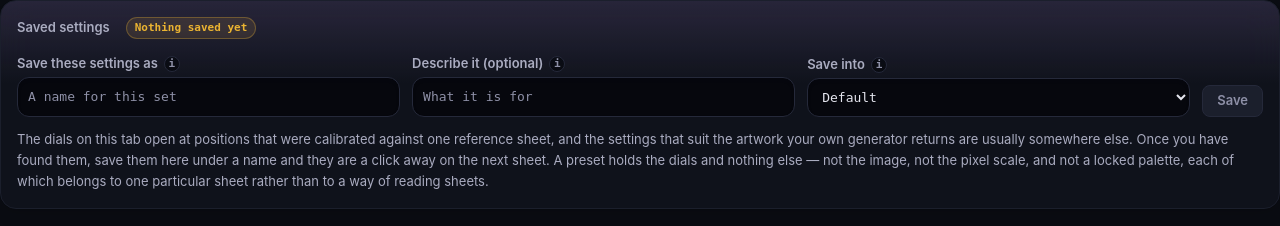
QuantisePresetControls › refuses to save until the box holds a name
The width and height of the screenshot is (1280, 226).
Expected: the button "Save" is disabled, [1202,85,1263,117]
Type "Flat sheets" into the field labelled "Save these settings as". click: (209, 97)
box: [17,77,400,117]
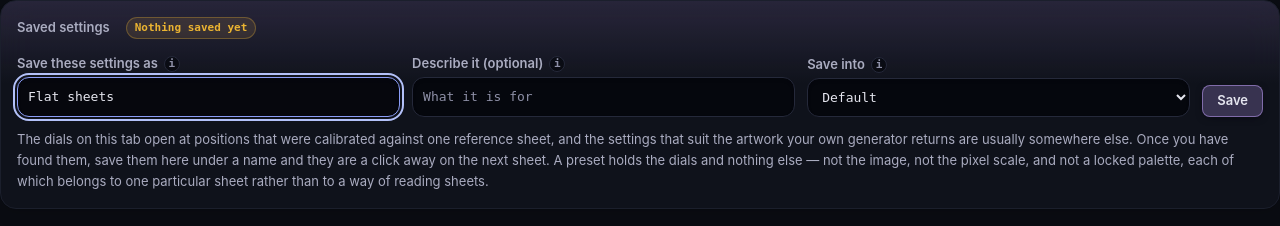
Result: the button "Save" is enabled at [1202,85,1263,117]
